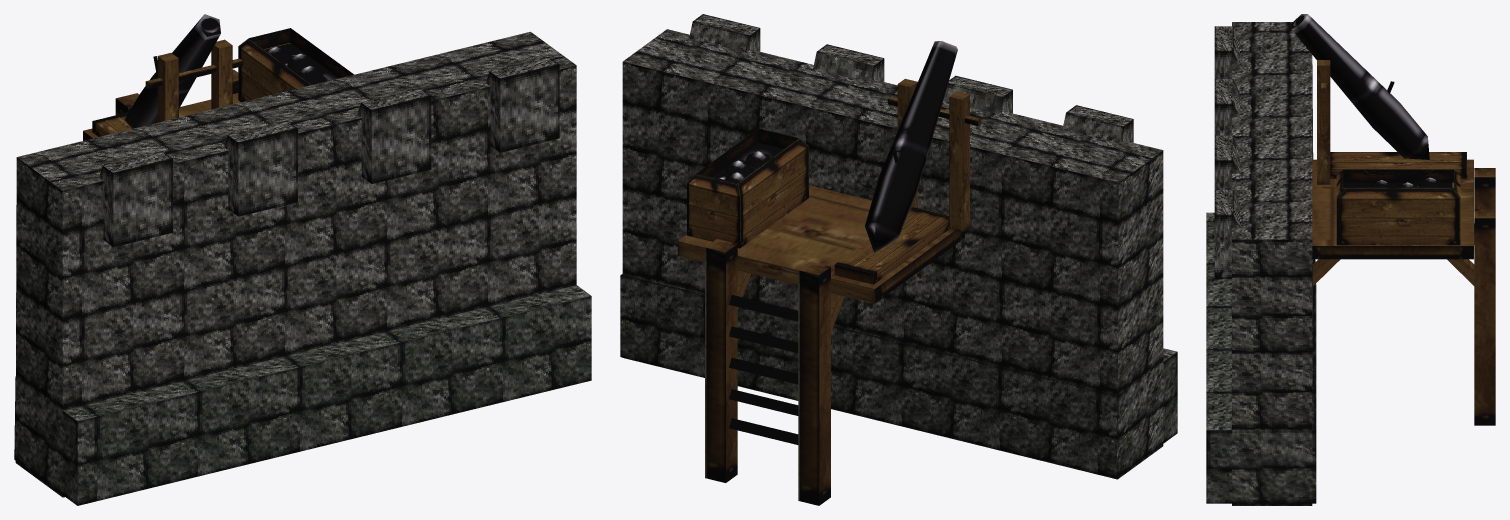
The model's file is StoneWall03.glb.
3 views of the same model, side by side, from view 1: azimuth 30°, elevation 25°; view 2: azimuth 150°, elevation 25°; view 3: azimuth 270°, elevation 25° (orthographic). The views are drawn at different scales.
Parts seen in each view (by area): view 1: StoneWall03; view 2: StoneWall03; view 3: StoneWall03.
Boxes of the visible parts, x1=… form: StoneWall03: x1=14, y1=14, x2=591, y2=505; StoneWall03: x1=620, y1=14, x2=1177, y2=505; StoneWall03: x1=1206, y1=14, x2=1495, y2=505.
Bounding box in the file's own units: 3.98 × 3.01 × 2.24.
Materials: 3 (3 with a texture image).
